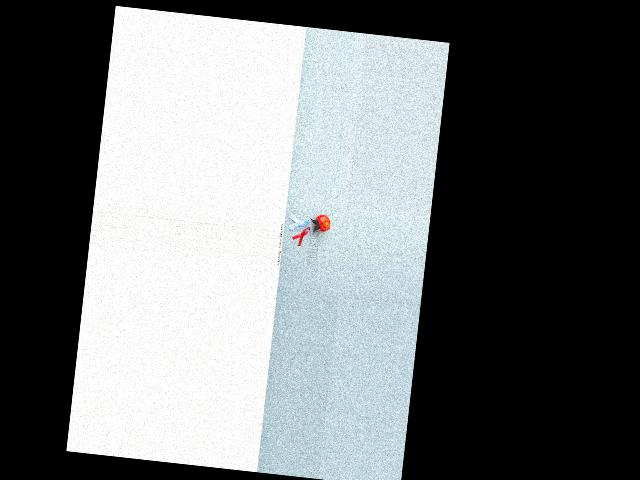tomato: (313, 214, 331, 232)
